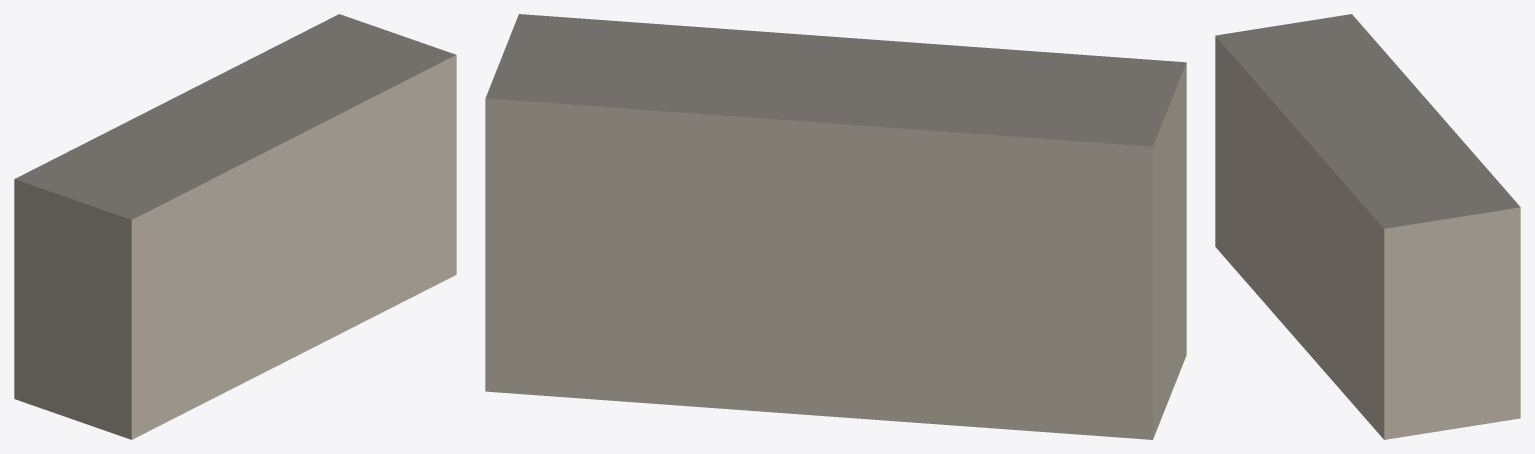
The picture shows the model from 3 angles, left to right: view 1: azimuth 30°, elevation 25°; view 2: azimuth 150°, elevation 25°; view 3: azimuth 270°, elevation 25°; orthographic projection. The views are drawn at different scales.
Parts seen in each view (by area): view 1: HP-w1211773990; view 2: HP-w1211773990; view 3: HP-w1211773990.
Part boxes in pixels (box(x1,y1,x2,y2)): HP-w1211773990: box(14, 14, 456, 439); HP-w1211773990: box(485, 14, 1186, 439); HP-w1211773990: box(1215, 14, 1520, 439).
Bounding box in the file's own units: 39.3 × 18 × 23.62.
